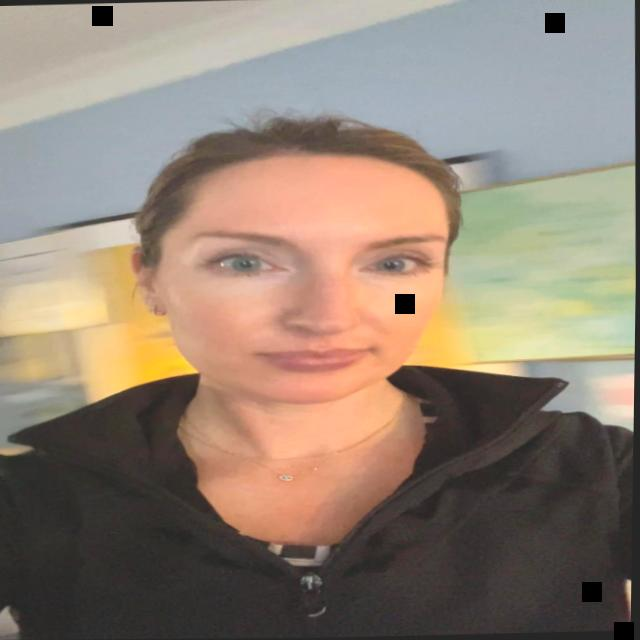NO-Mask: (131, 136, 465, 427)
